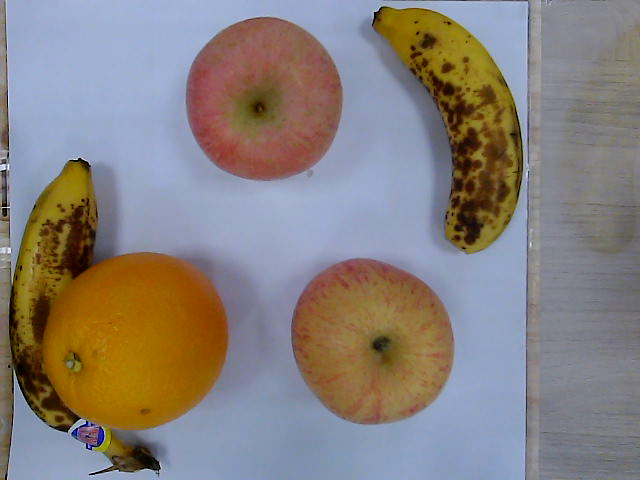fresh_apple: (291, 260, 455, 427), (185, 17, 345, 182)
fresh_orange: (44, 252, 229, 431)
rotten_banana: (9, 157, 160, 473), (373, 6, 523, 255)
